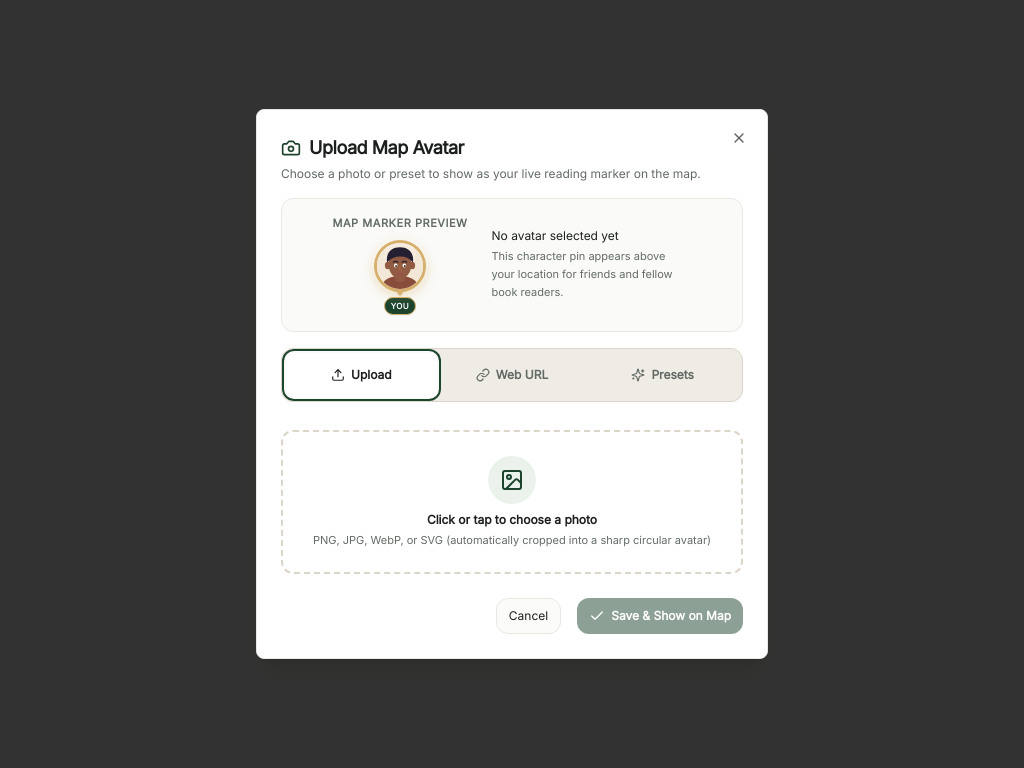
Test: AvatarUploadDialog › allows pasting an HTTPS image URL and validates input
Later steps or results of the test are not shown.
Click the tab "Web URL" at (512, 374), box [437,352,587,396]
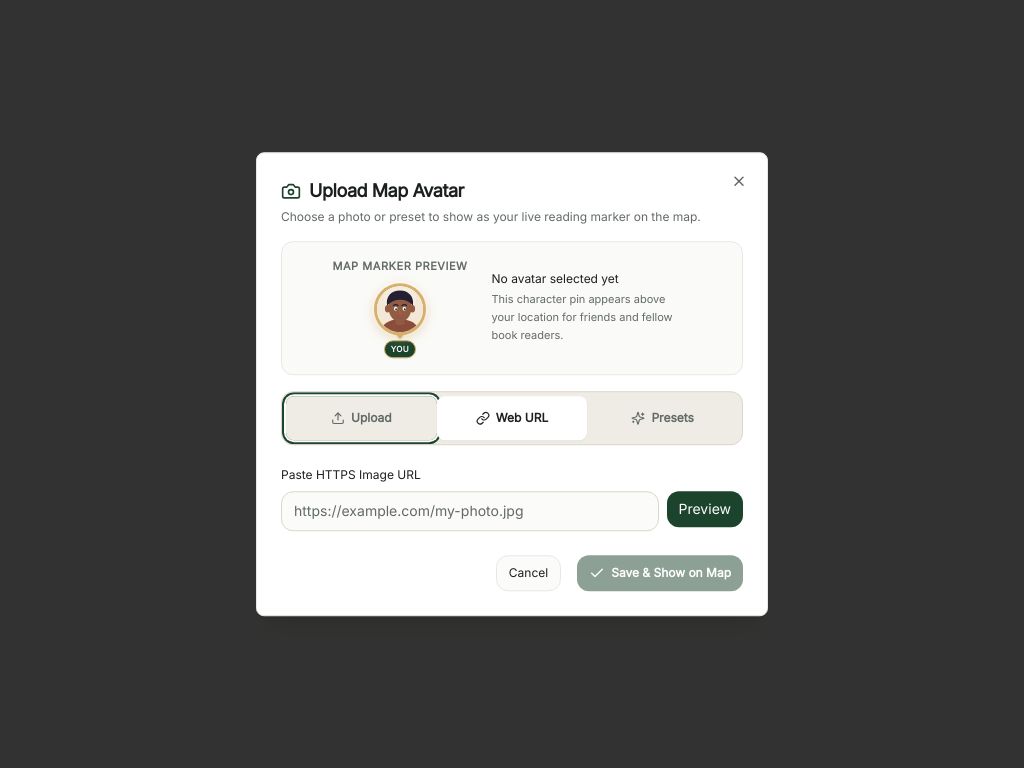
Type "http://insecure.test/img.png" into the field with placeholder "https://example.com/my-photo.jpg" at (470, 511), box [281,491,658,531]
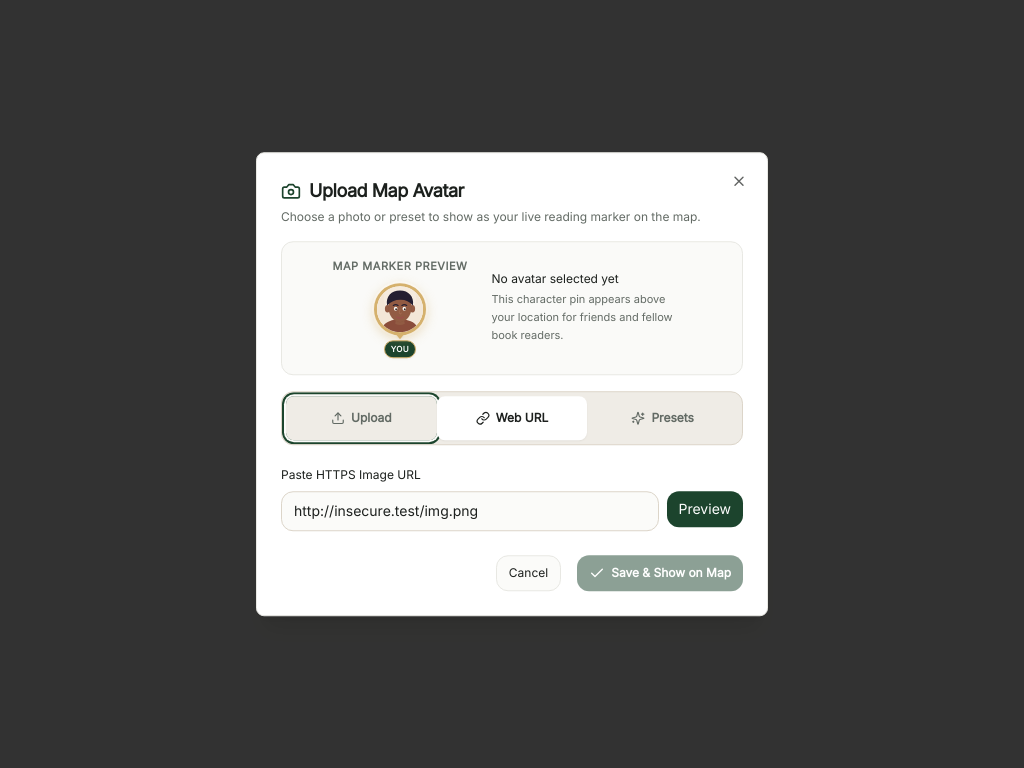
Click the button "Preview" at (705, 509), box [666,491,743,527]
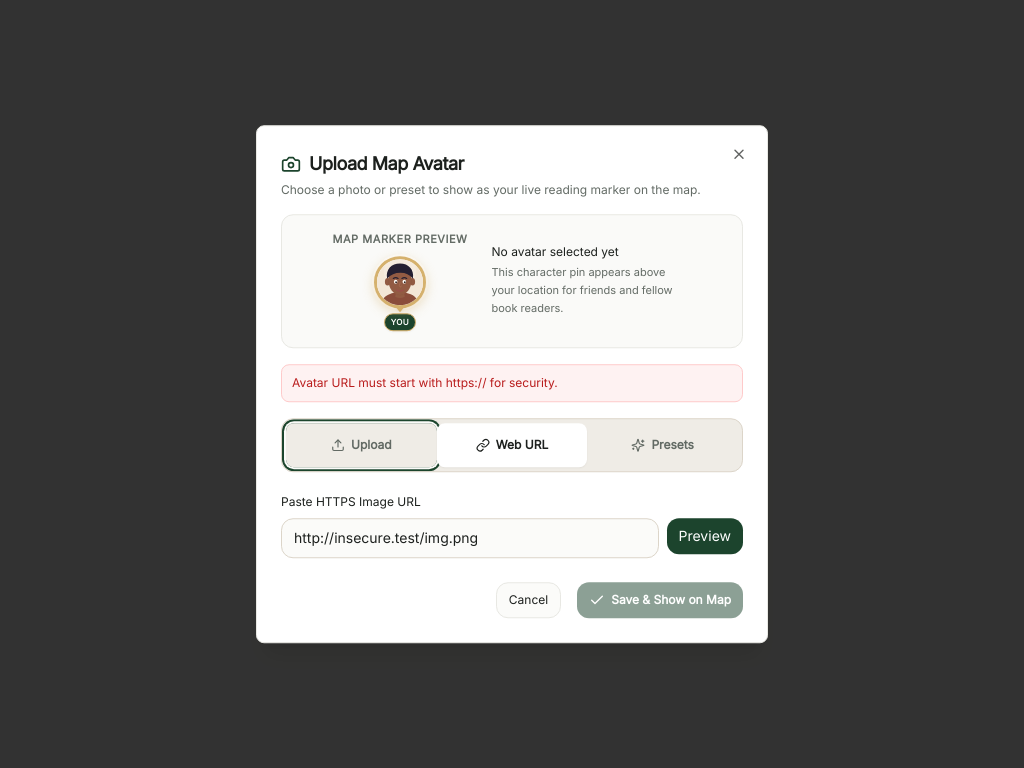
Check: the text "Avatar URL must start with https:// for security." is shown, box [281,364,743,402]
Replace the text in the field with placeholder "https://example.com/my-photo.jpg" with "https://cdn.example.com/photo.jpg" at (470, 538), box [281,518,658,558]
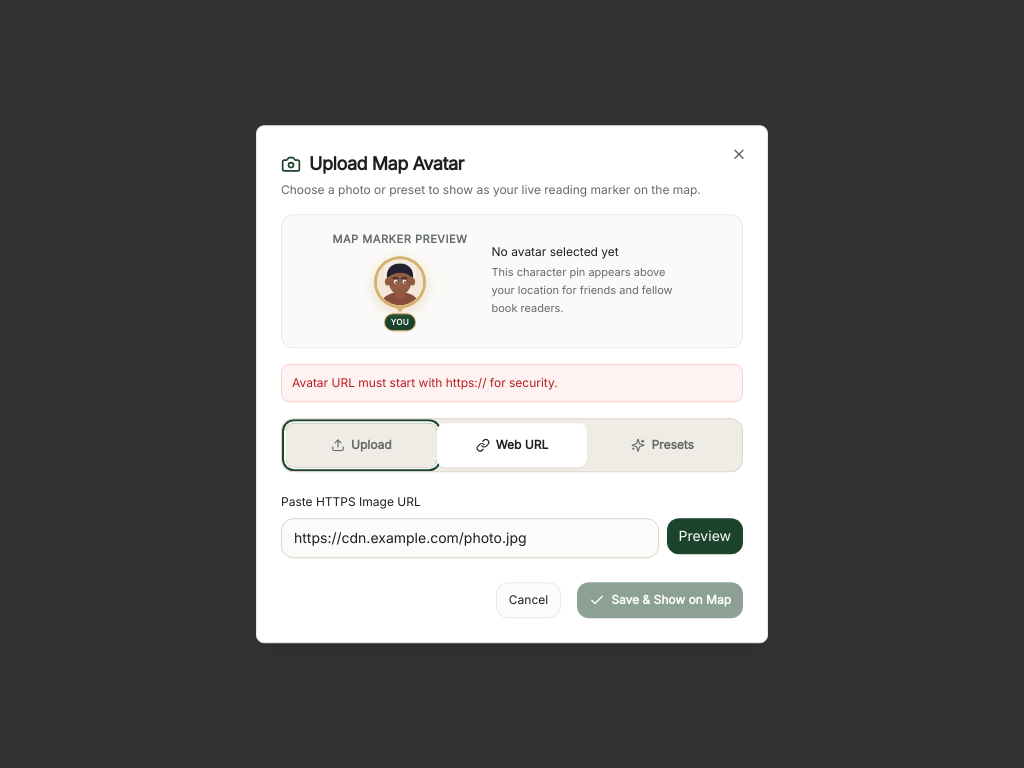
Click the button "Preview" at (705, 536), box [666,518,743,554]
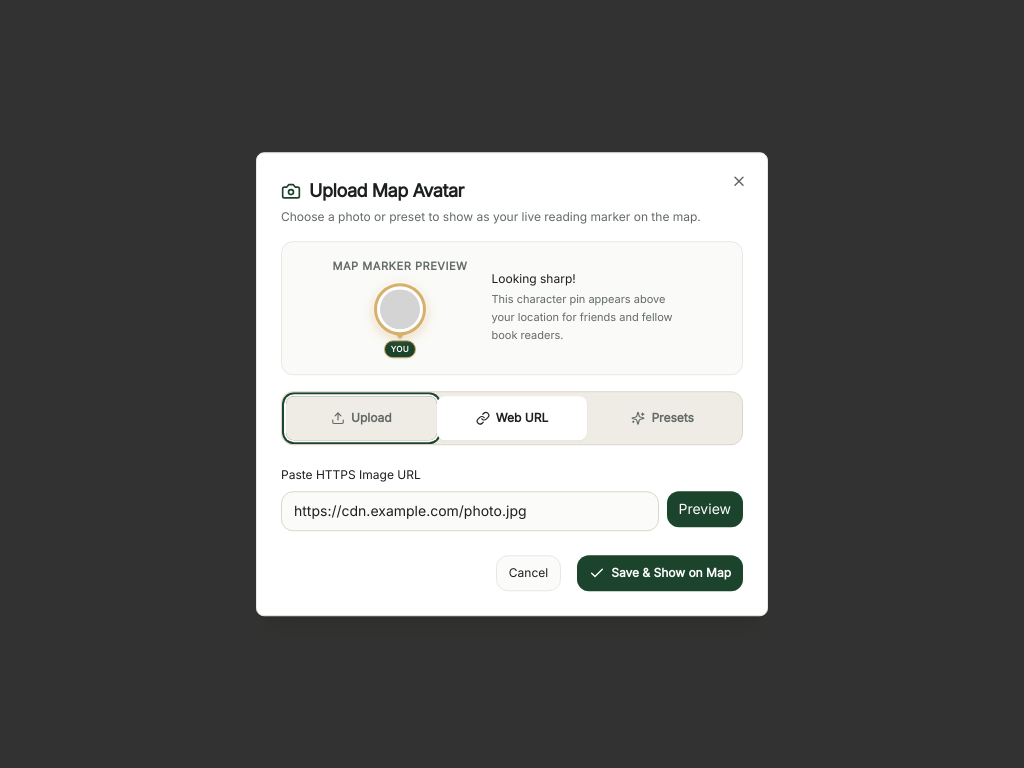
Check: the text "Avatar URL must start with https:// for security." is gone
Check: the text "Looking sharp!" is shown, box [492,271,576,286]
